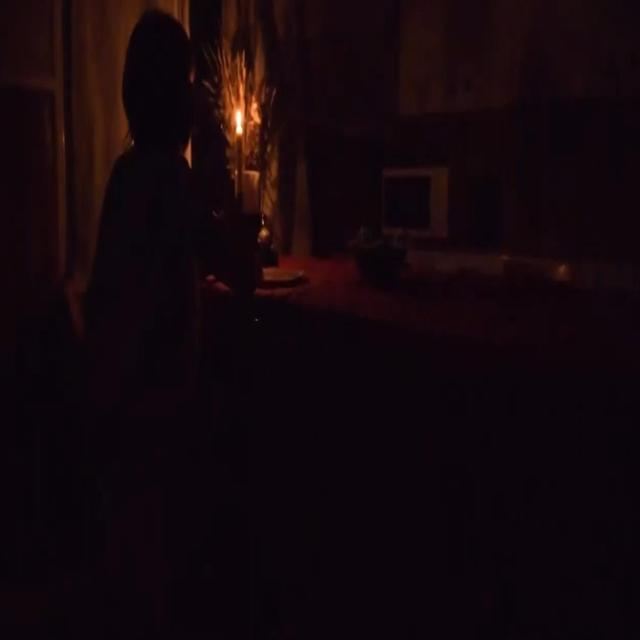smoke: (235, 106, 244, 130)
